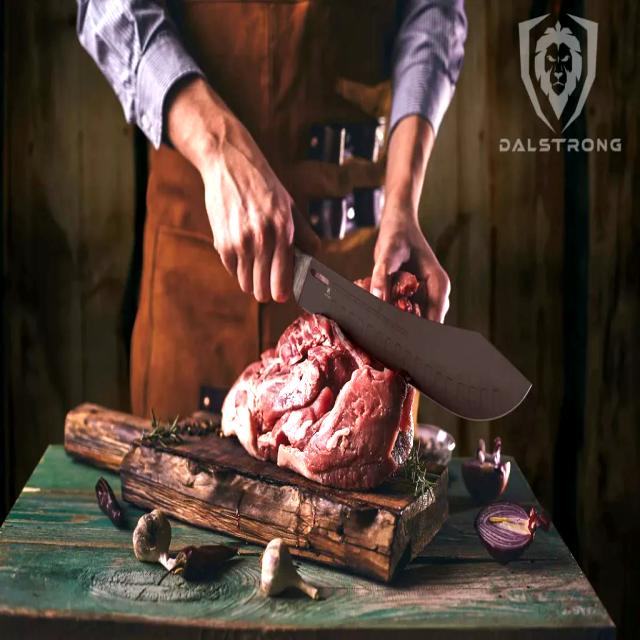cleaver: (203, 162, 535, 424)
